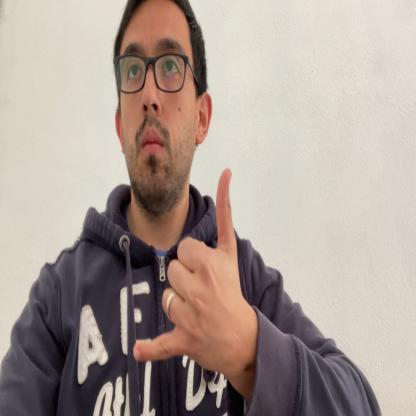Y: (133, 168, 250, 392)
